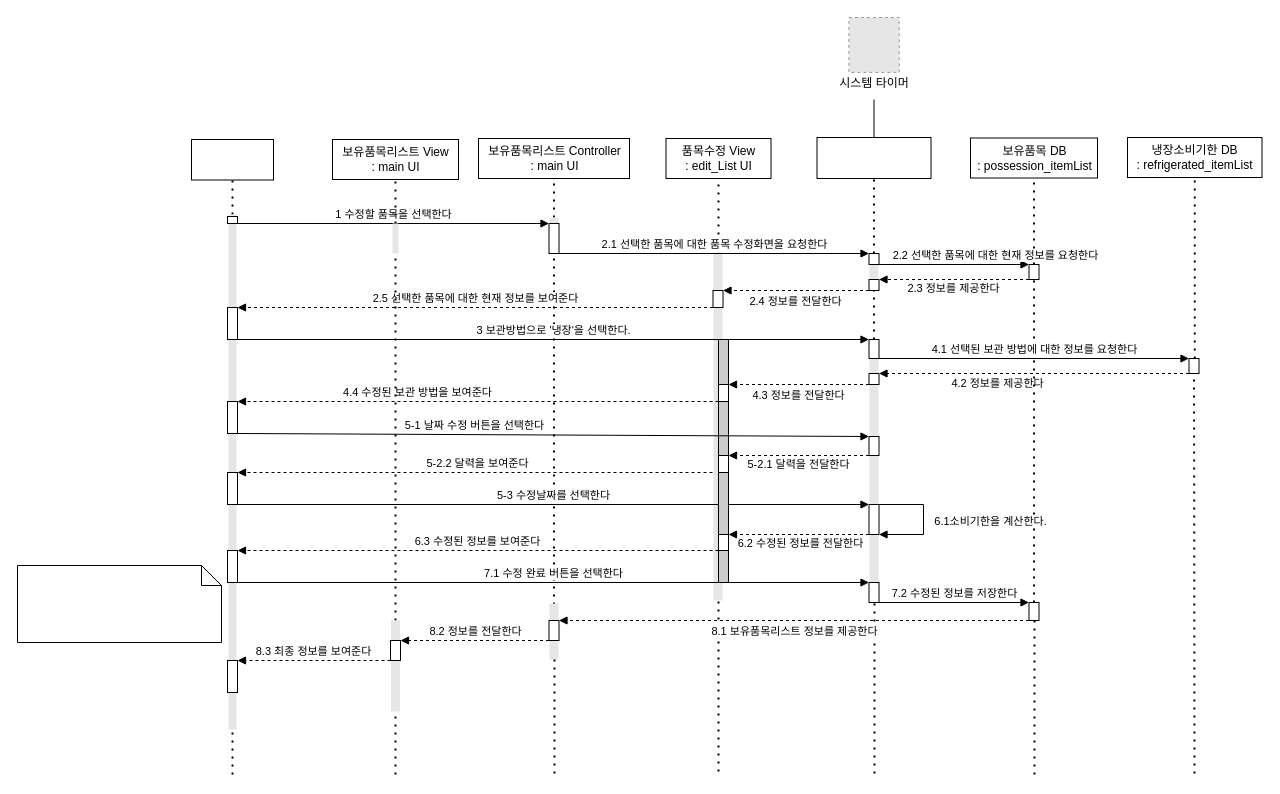
Some shapes in this 1280 by 794 pixel diagram are drawn without their labels. Grey dashed boxes stand in for pictures. The box of each missing label's shape, as (x1, y1, x2, y2) in pixels:
7A. 사용자가 취소버튼을 누를 경우, 시스템이 '수정을 취소하시겠습니까?' 라는 팝업창을 보여준다: (16, 564, 222, 642)
USER: (190, 138, 274, 180)
품목수정 Controller : edit_List UI: (816, 136, 931, 178)
